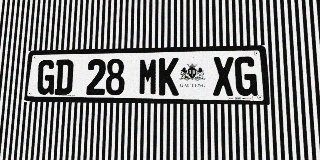2: (86, 59, 106, 95)
8: (105, 58, 125, 95)
D: (54, 59, 74, 95)
G: (234, 56, 258, 96), (36, 60, 56, 95)
K: (159, 58, 179, 96)
M: (138, 58, 158, 95)
X: (212, 57, 235, 96)
